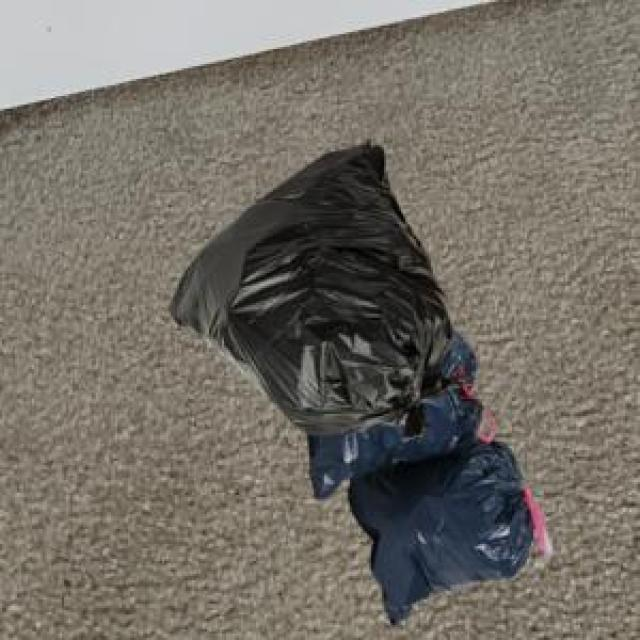miscellaneous trash: (164, 137, 461, 437), (303, 326, 548, 619)
